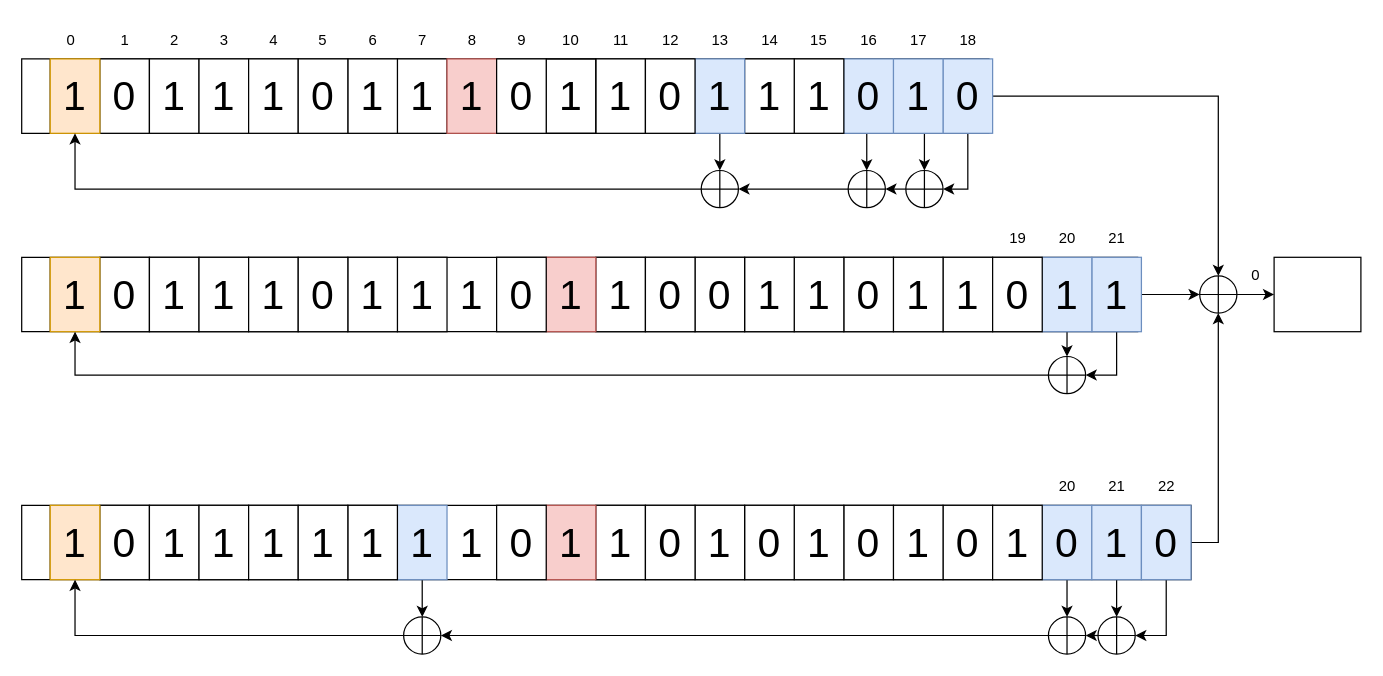
Some shapes in this 1383 by 676 pixel diagram are drawn without their labels. The shapes that lost their labels are listed below. From the top down, each one's box as (x1, y1, x2, y2) in pixels, then its label:
(20, 58, 989, 133): R1
(20, 256, 1138, 332): R2
(1273, 256, 1361, 332): Keystream bit
(20, 504, 1191, 580): R3
